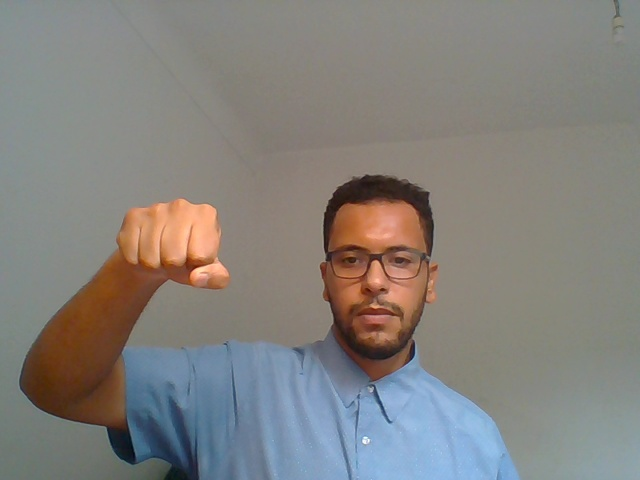yes: (58, 176, 250, 338)
